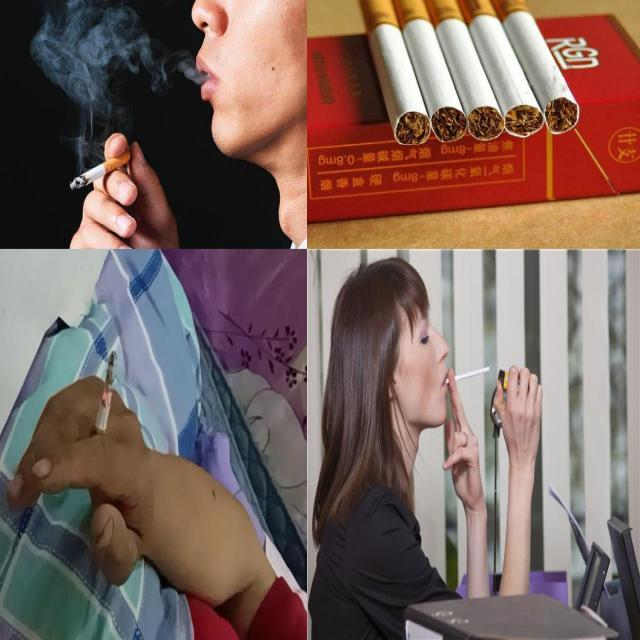cigarette: (458, 0, 546, 139), (492, 0, 582, 135), (426, 0, 506, 142), (393, 0, 469, 143), (358, 0, 432, 145), (90, 353, 116, 453), (70, 150, 132, 190), (441, 361, 492, 383)
